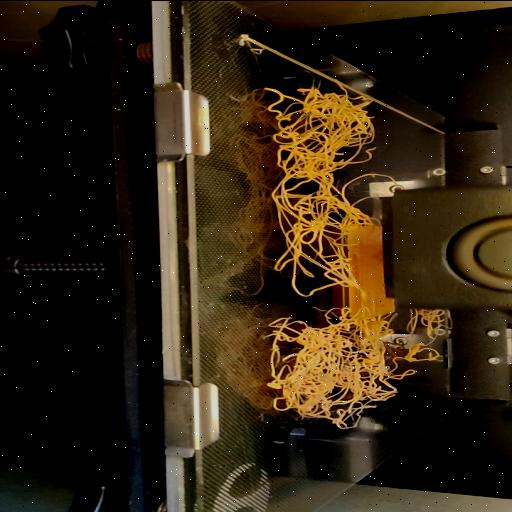spaghetti: (260, 78, 390, 434), (390, 303, 458, 396)
